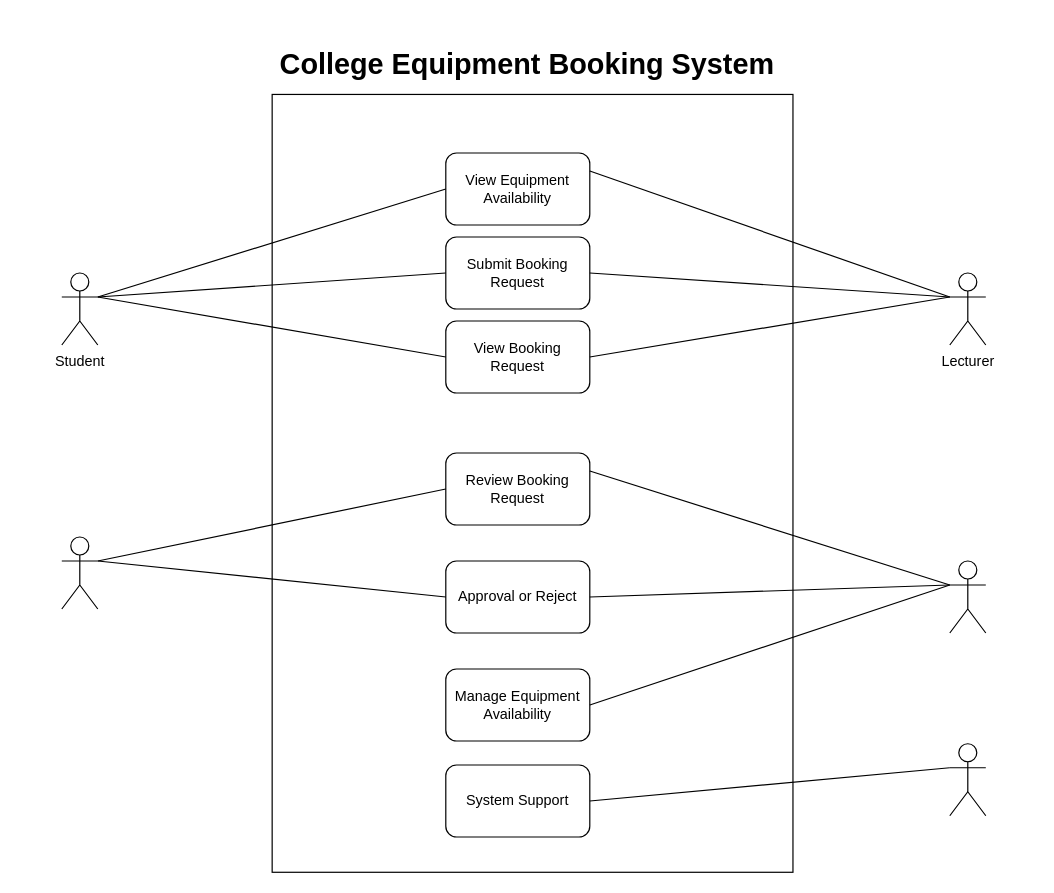
Image size: 1054x893. Some labels were removed from this diagram. The shapes that lost their labels are listed below. From the top down, each one's centre as x and y in pixels, then its label:
point (79, 572): Department Admin
point (967, 596): Equipment Manager
point (967, 779): IT
